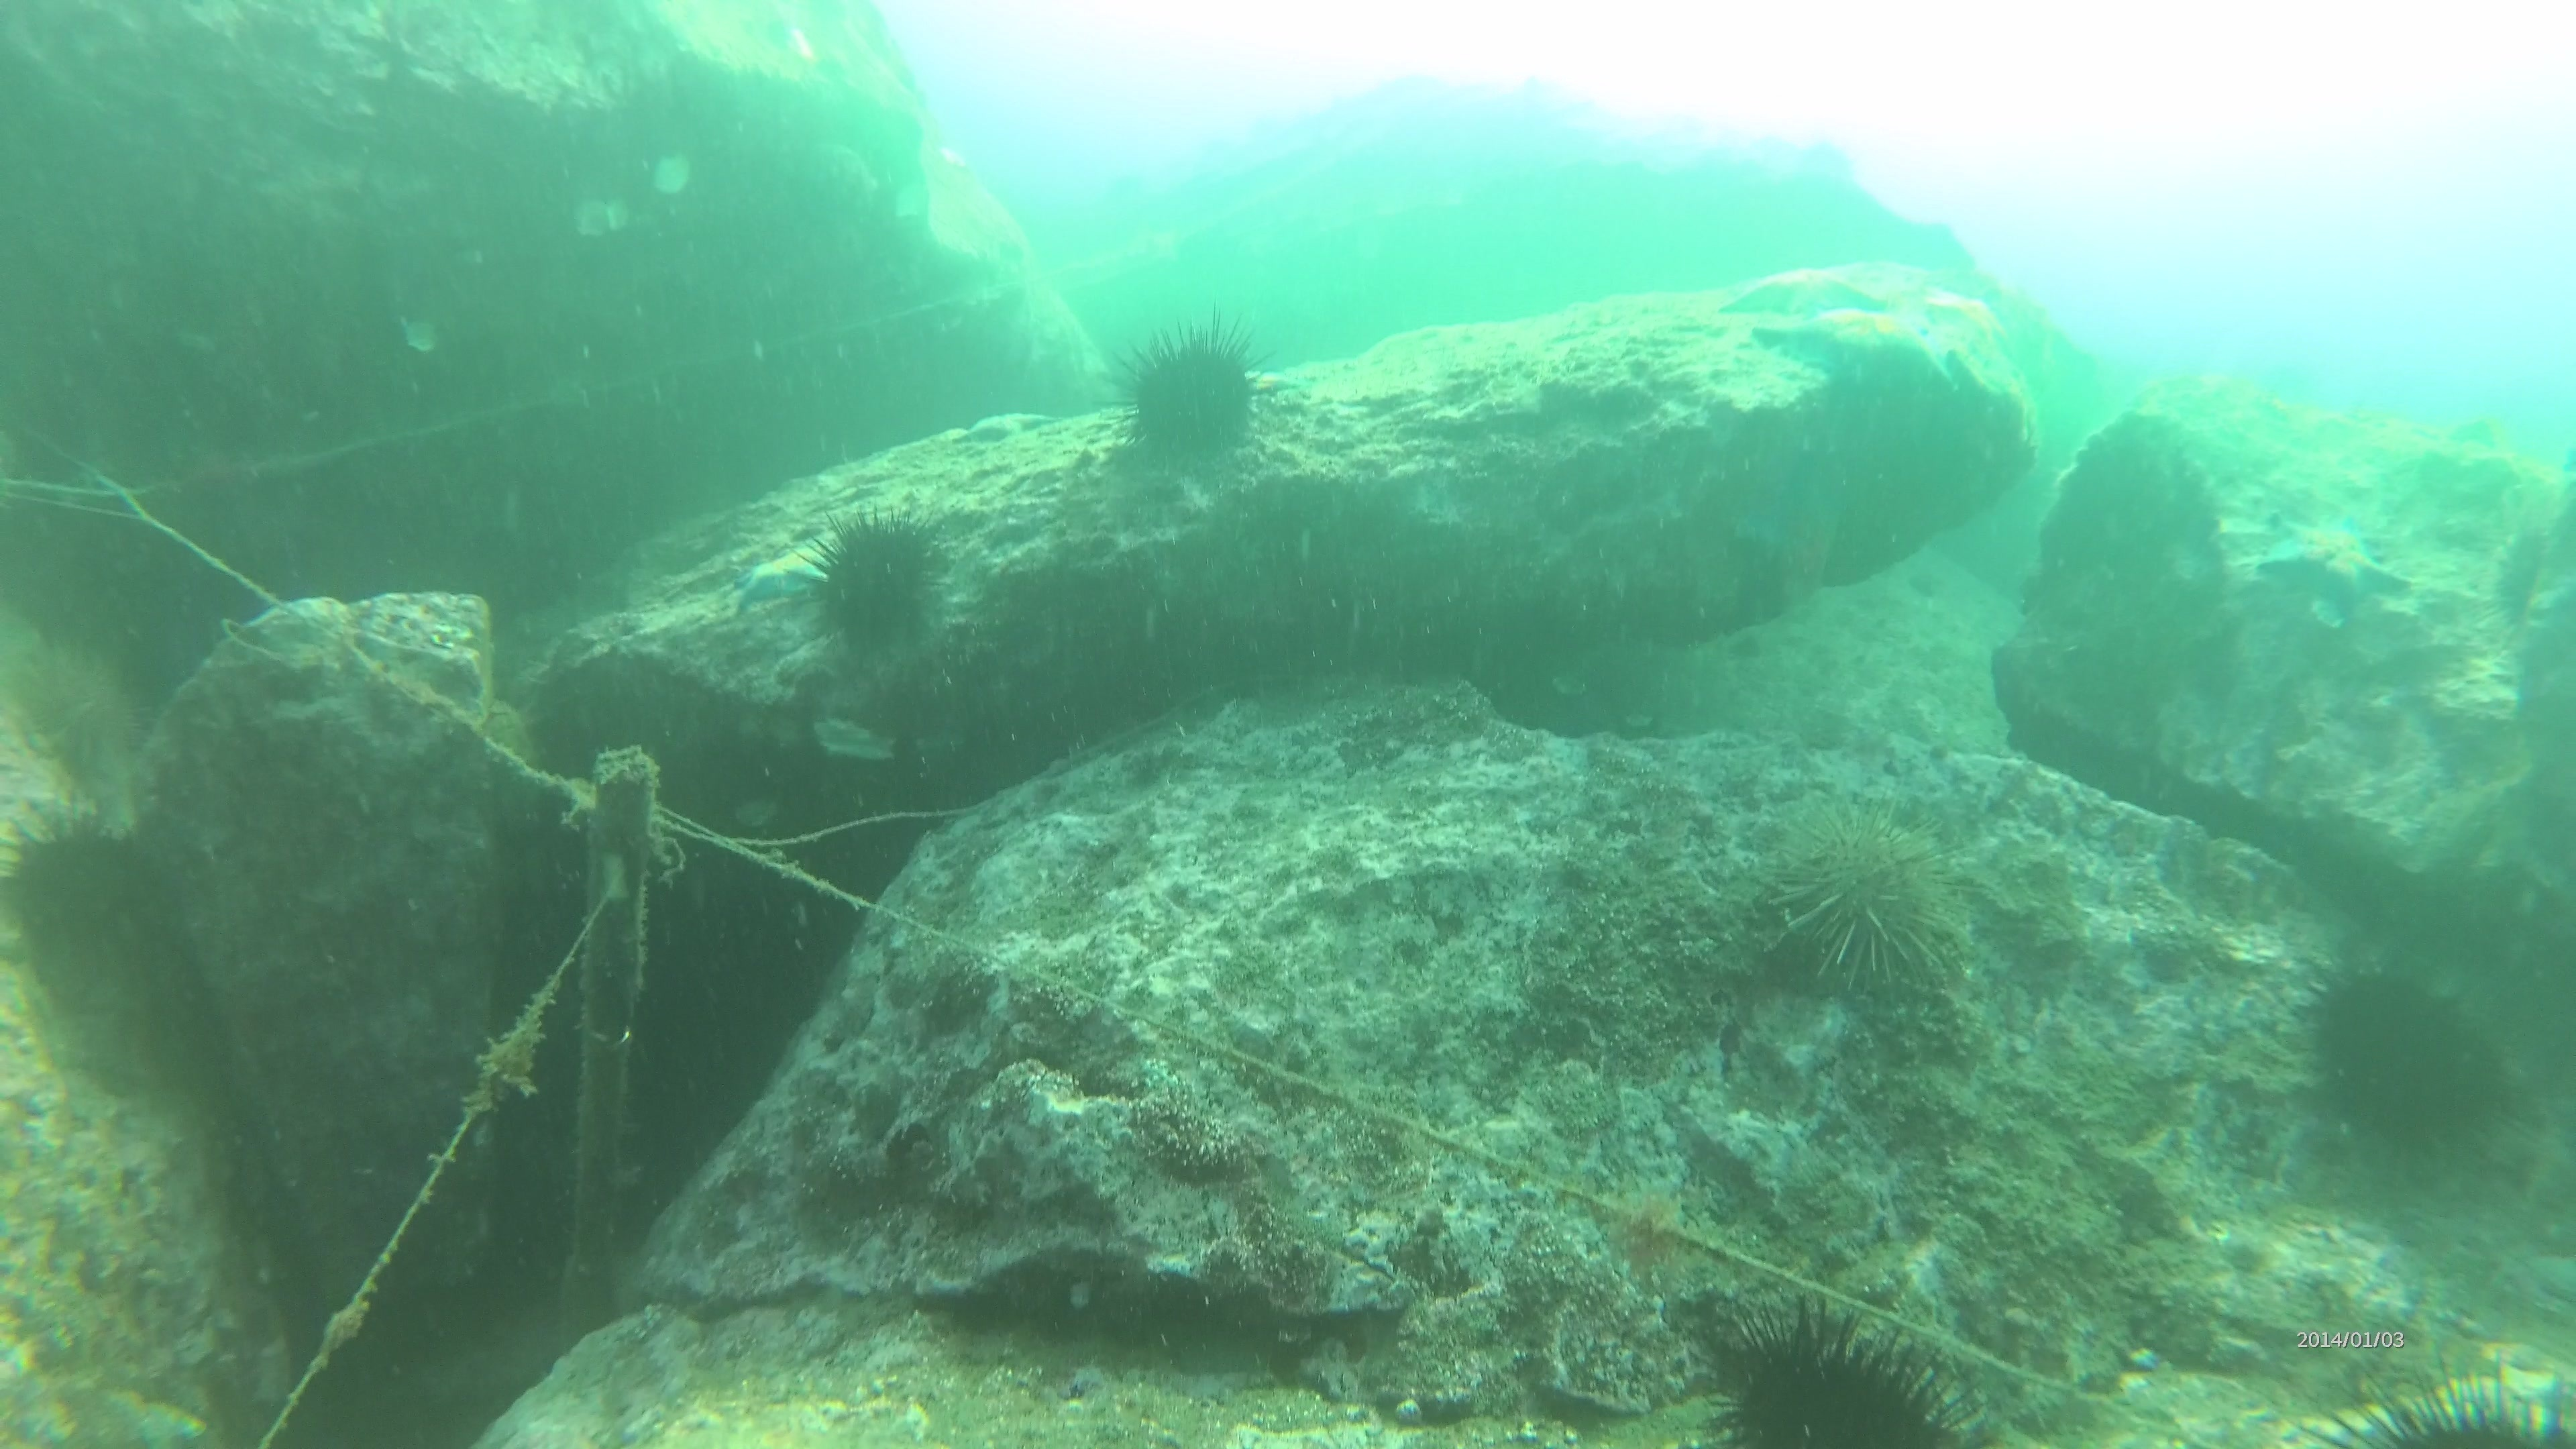echinus: (2288, 948, 2526, 1175), (1760, 796, 1966, 1000), (1693, 1300, 1969, 1445), (2, 801, 175, 977), (1104, 313, 1279, 483), (796, 504, 955, 665), (5, 628, 154, 789), (2337, 1364, 2571, 1442)
starfish: (1752, 295, 1966, 405), (2254, 499, 2410, 623), (1718, 255, 1897, 327), (722, 527, 839, 616), (1918, 280, 2024, 372)
